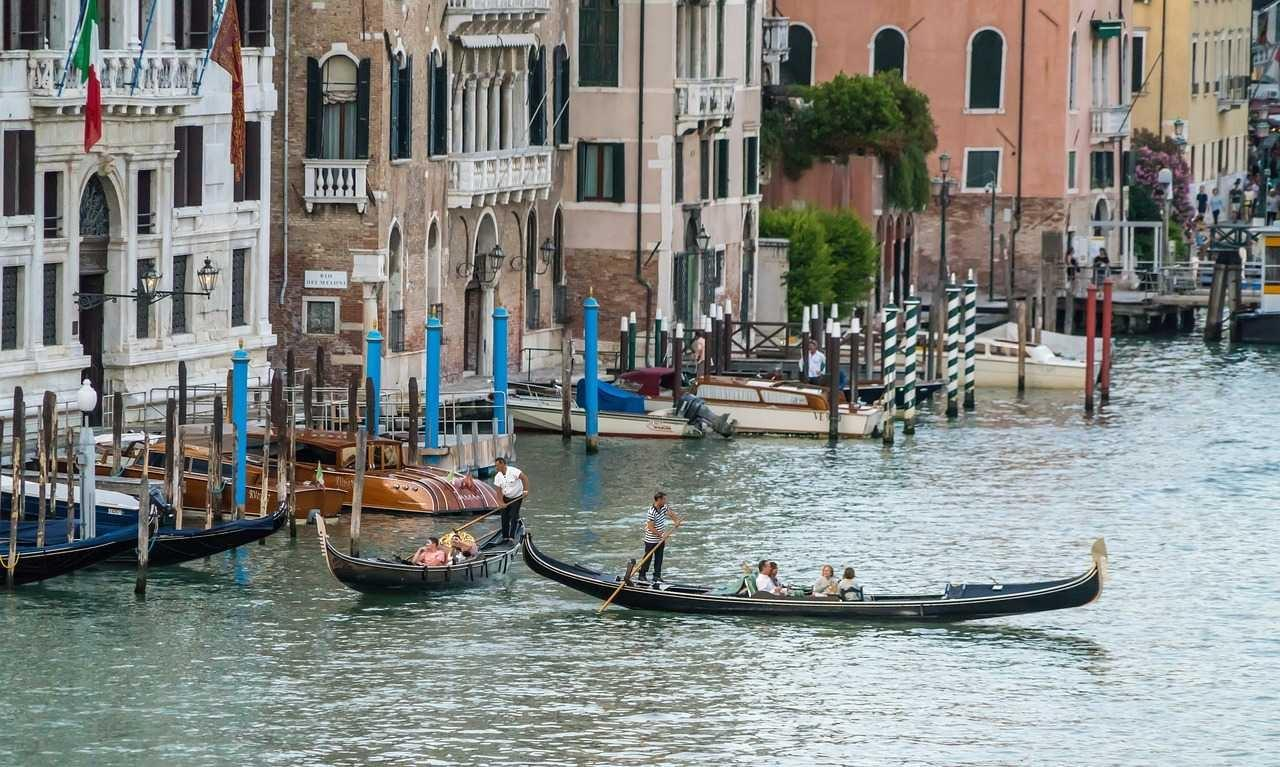kayak: (519, 530, 1108, 631), (1, 471, 252, 588), (292, 429, 511, 520), (315, 510, 523, 597), (680, 372, 885, 439), (511, 398, 713, 443), (974, 327, 1110, 389), (1233, 305, 1280, 345)
